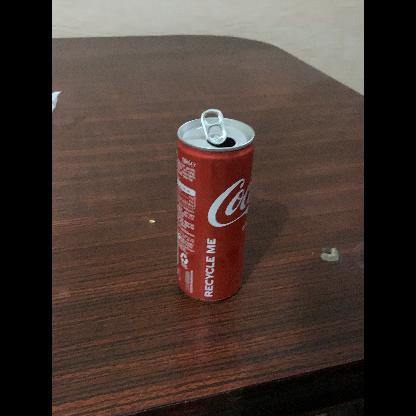Lid_Open: (192, 102, 240, 152)
Tin_Can: (166, 89, 258, 315)
